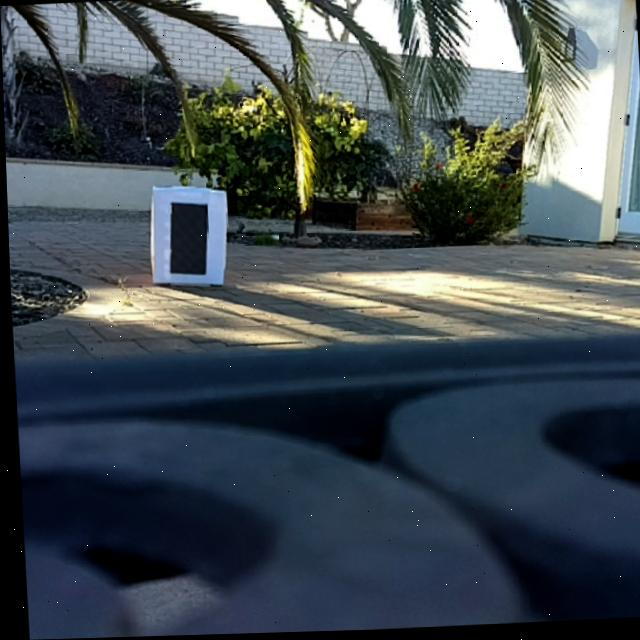led: (166, 200, 207, 276)
